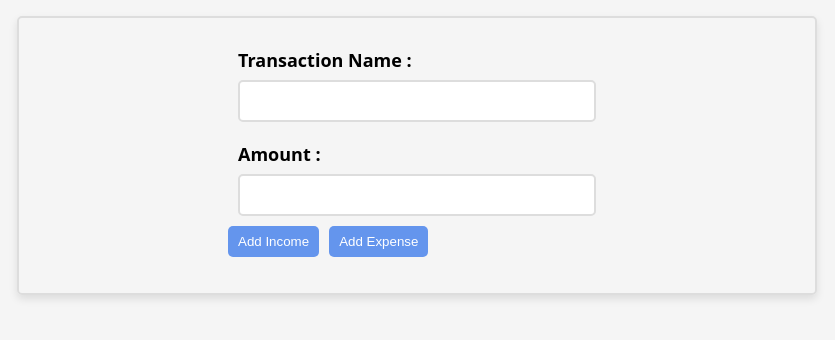
Scenario: rejects an amount of 0
In the field labelled "Transaction Name :": (417, 101) top-left (238, 80), bottom-right (596, 122), type "Salary"
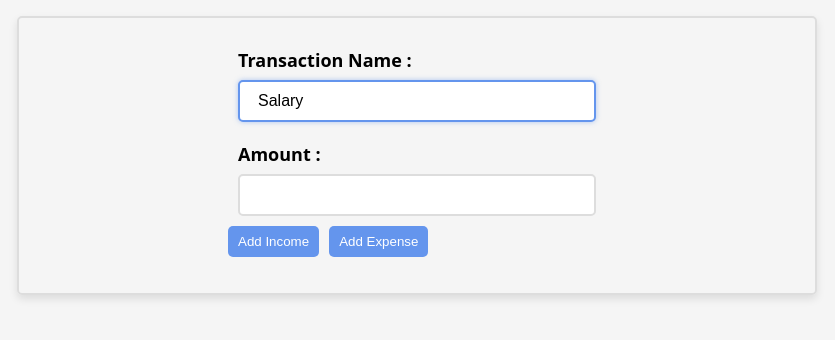
In the number field labelled "Amount :": (417, 195) top-left (238, 174), bottom-right (596, 216), type "0"
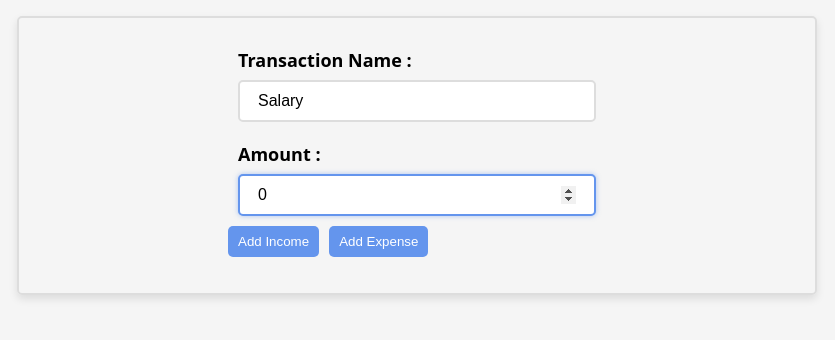
Click the button "Add Income": (274, 242) top-left (228, 226), bottom-right (319, 257)
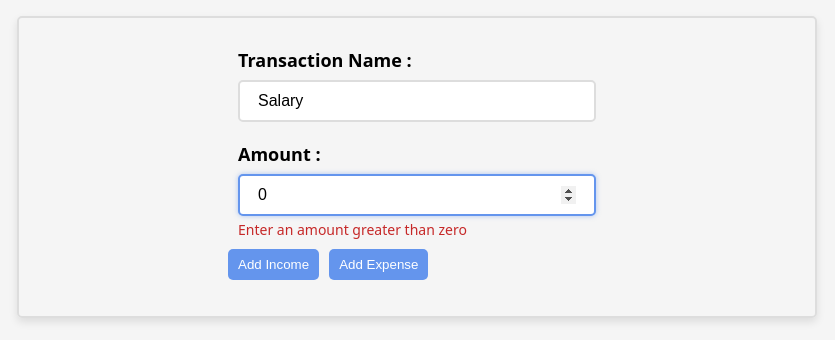
Result: the text "Enter an amount greater than zero" is shown at top-left (238, 220), bottom-right (467, 239)
